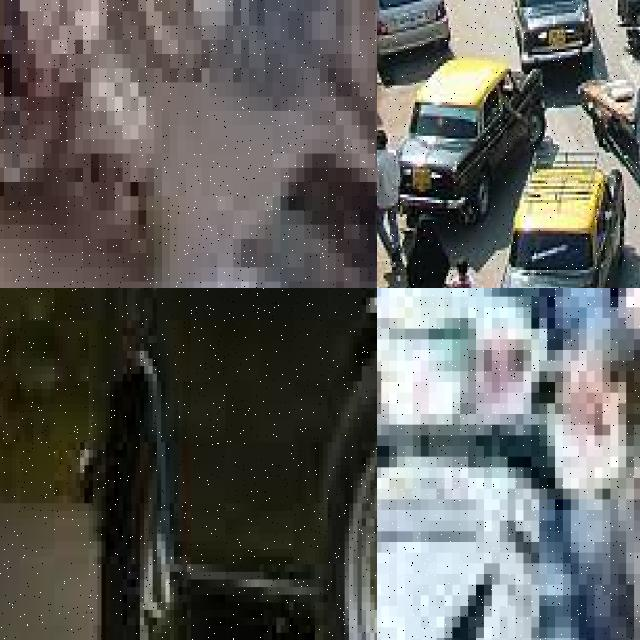bike: (377, 288, 586, 640), (0, 0, 169, 288), (613, 0, 640, 68)
car: (80, 288, 377, 640)
